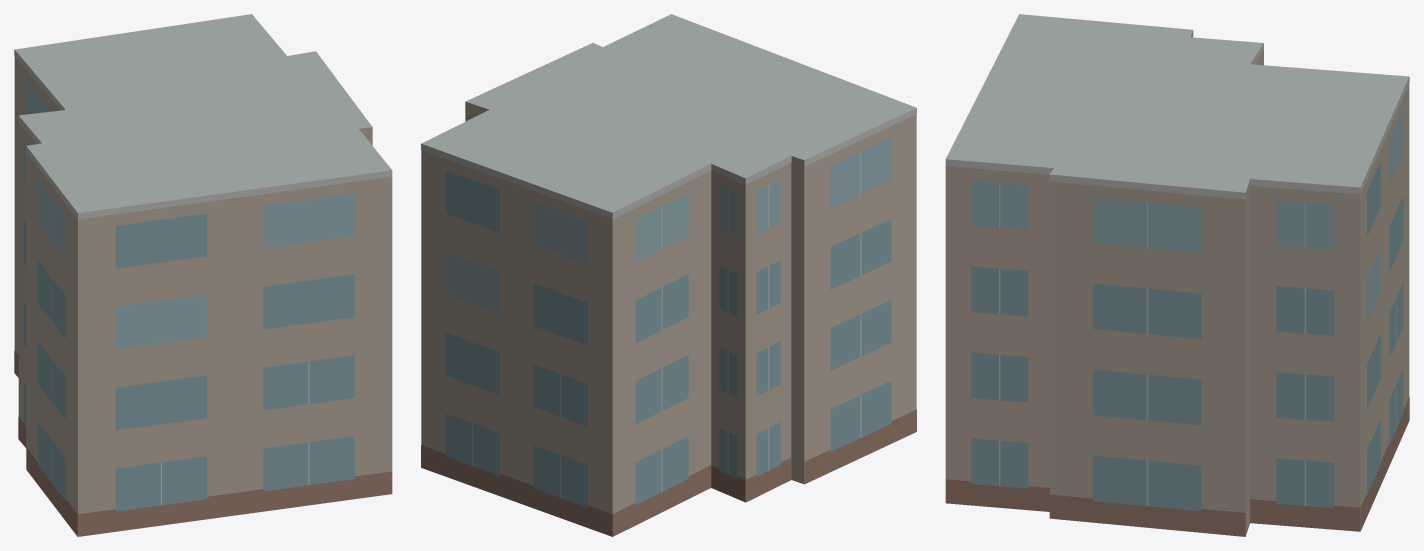
Rendered from survey-upis-32476811.glb.
3 views of the same model, side by side, from view 1: azimuth 30°, elevation 25°; view 2: azimuth 150°, elevation 25°; view 3: azimuth 270°, elevation 25° (orthographic). The views are drawn at different scales.
Parts seen in each view (by area): view 1: survey-upis-32476811.tmp; view 2: survey-upis-32476811.tmp; view 3: survey-upis-32476811.tmp.
Part boxes in pixels (x1,y1,x2,y2): survey-upis-32476811.tmp: (14,14,392,536); survey-upis-32476811.tmp: (421,14,916,536); survey-upis-32476811.tmp: (945,14,1409,536).
Size of the model in its own units: 13.71 by 12.3 by 15.04.
